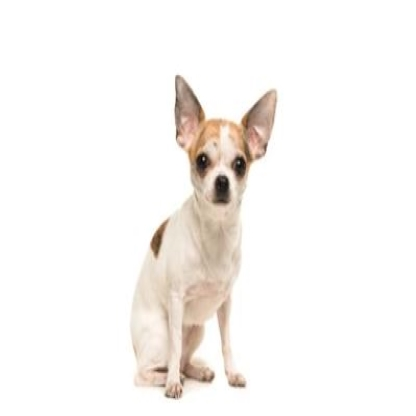chihuahua: (130, 73, 281, 399)
